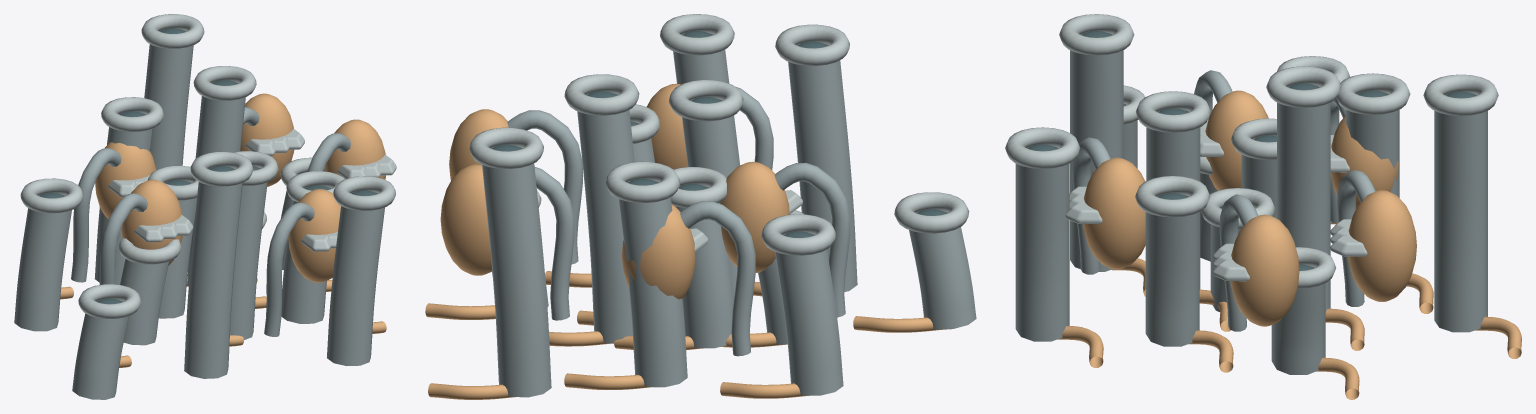
The model's file is bio_thermal_colony_18_near.glb.
The picture shows the model from 3 angles, left to right: view 1: azimuth 30°, elevation 25°; view 2: azimuth 150°, elevation 25°; view 3: azimuth 270°, elevation 25°; orthographic projection. The views are drawn at different scales.
Visible parts, largest first — view 1: Chimney biofilm.007, Chimney biofilm.010, Chimney biofilm.009, Chimney biofilm.011, Chimney biofilm.002, Chimney biofilm.012, Pendant spore capsule.002, Chimney biofilm.004, Chimney biofilm.003, Arched fruit stem.002, Pendant spore capsule.004, Arched fruit stem.001 (+25 smaller); view 2: Chimney biofilm.011, Chimney biofilm.003, Chimney biofilm.007, Chimney biofilm.006, Chimney biofilm.009, Chimney biofilm.012, Chimney biofilm.001, Pendant spore capsule.003, Pendant spore capsule.004, Pendant spore capsule.001, Arched fruit stem.001, Arched fruit stem.004 (+24 smaller); view 3: Chimney biofilm.011, Chimney biofilm.010, Chimney biofilm.003, Chimney biofilm.005, Pendant spore capsule.003, Pendant spore capsule, Chimney biofilm.007, Pendant spore capsule.002, Chimney biofilm.008, Pendant spore capsule.004, Chimney biofilm.002, Open vent rim.007 (+33 smaller).
Boxes of the visible parts, box(x1,y1,x2,y2) form: Chimney biofilm.007: box(184, 168, 242, 378); Chimney biofilm.010: box(327, 192, 384, 365); Chimney biofilm.009: box(14, 195, 71, 331); Chimney biofilm.011: box(144, 30, 193, 169); Chimney biofilm.002: box(230, 167, 267, 339); Chimney biofilm.012: box(72, 300, 128, 399); Pendant spore capsule.002: box(288, 189, 340, 282); Chimney biofilm.004: box(120, 259, 169, 345); Chimney biofilm.003: box(187, 82, 245, 285); Arched fruit stem.002: box(264, 202, 314, 336); Pendant spore capsule.004: box(121, 179, 182, 265); Arched fruit stem.001: box(71, 148, 121, 282); Chimney biofilm.011: box(482, 147, 551, 397); Chimney biofilm.003: box(577, 93, 634, 343); Chimney biofilm.007: box(788, 44, 857, 291); Chimney biofilm.006: box(618, 181, 687, 387); Chimney biofilm.009: box(775, 233, 843, 395); Chimney biofilm.012: box(909, 211, 976, 329); Chimney biofilm.001: box(675, 186, 734, 348); Pendant spore capsule.003: box(440, 164, 492, 275); Pendant spore capsule.004: box(720, 161, 789, 272); Pendant spore capsule.001: box(621, 204, 695, 299); Arched fruit stem.001: box(680, 201, 755, 356); Arched fruit stem.004: box(774, 162, 850, 317); Chimney biofilm.011: box(1434, 94, 1487, 332); Chimney biofilm.010: box(1015, 147, 1069, 341); Chimney biofilm.003: box(1277, 86, 1330, 311); Chimney biofilm.005: box(1145, 195, 1199, 346); Pendant spore capsule.003: box(1348, 190, 1416, 301); Pendant spore capsule: box(1230, 214, 1299, 326); Chimney biofilm.007: box(1070, 33, 1123, 271); Pendant spore capsule.002: box(1083, 157, 1145, 269); Chimney biofilm.008: box(1271, 267, 1325, 374); Pendant spore capsule.004: box(1205, 90, 1268, 190); Chimney biofilm.002: box(1146, 111, 1200, 289); Open vent rim.007: box(1059, 14, 1134, 55).
Bounding box in the file's own units: 1.9 × 1.03 × 1.92.
